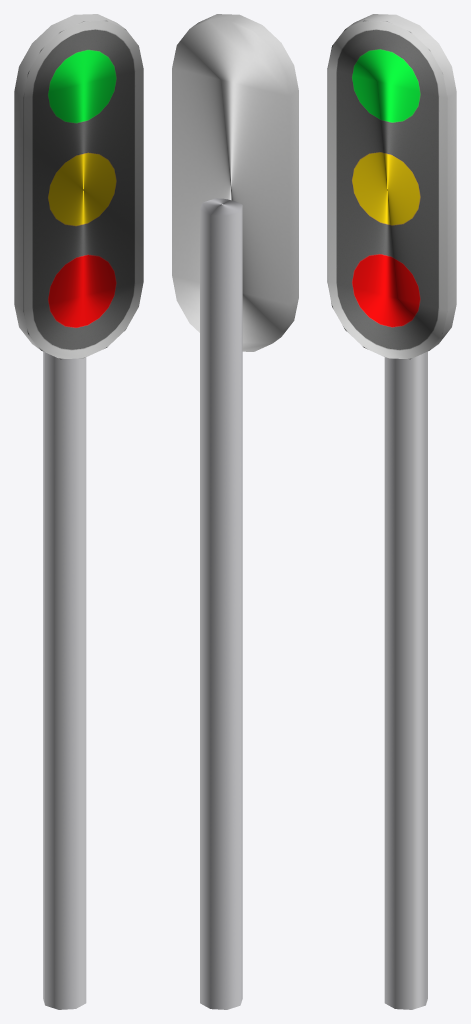
3 views of the same model, side by side, from view 1: azimuth 30°, elevation 25°; view 2: azimuth 150°, elevation 25°; view 3: azimuth 330°, elevation 25° (orthographic). The views are drawn at different scales.
Visible parts, largest first — view 1: Material__68; view 2: Material__68; view 3: Material__68.
Part boxes in pixels (x1=…): Material__68: x1=14, y1=14, x2=143, y2=1009; Material__68: x1=172, y1=14, x2=298, y2=1009; Material__68: x1=327, y1=14, x2=456, y2=1009.
Bounding box in the file's own units: 0.778 × 6.13 × 0.3368.
1 material, 1 textured.
